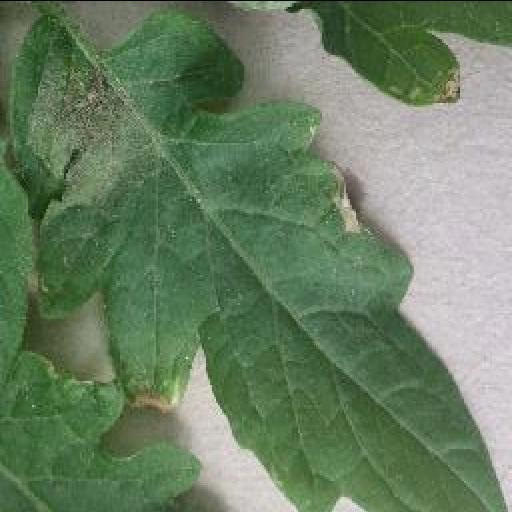disease_tomato: (11, 12, 509, 512)
